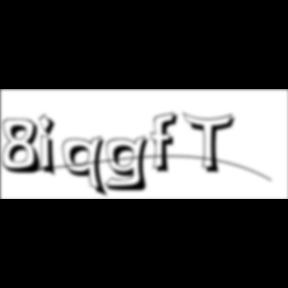8: (2, 117, 48, 176)
T: (183, 112, 241, 176)
f: (151, 111, 184, 175)
g: (104, 134, 156, 194)
i: (39, 112, 63, 180)
q: (62, 135, 112, 200)
